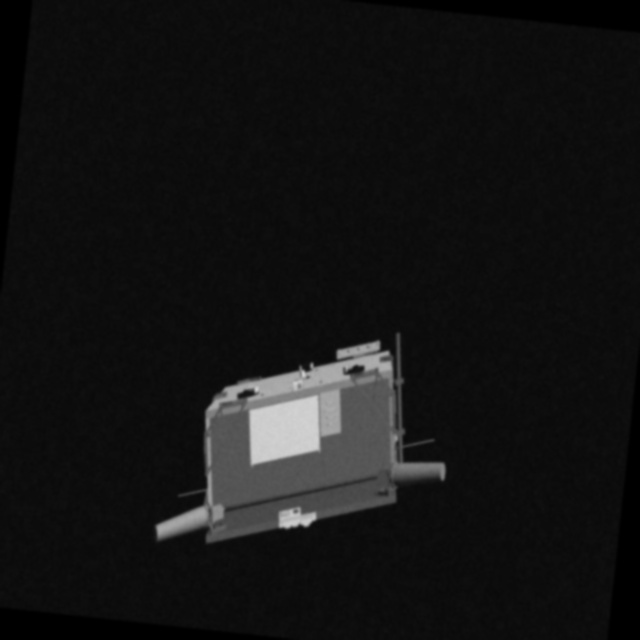medium_debris: (141, 303, 463, 574)
